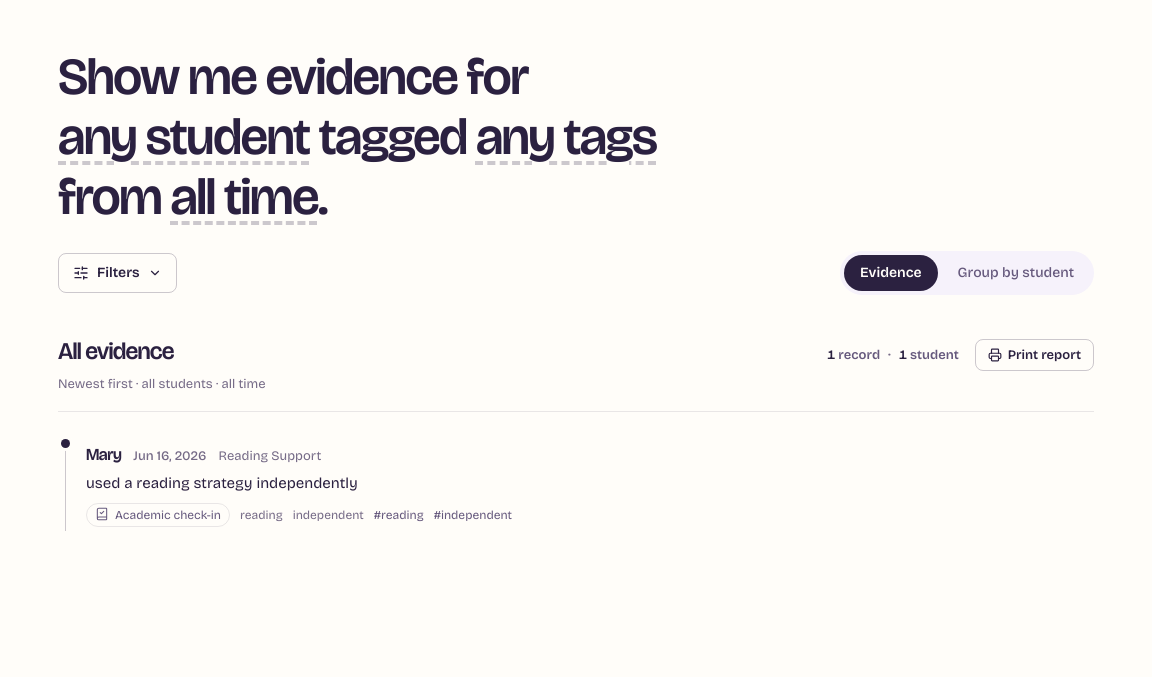
ExploreEvidencePage › does not ask how tags match until two tags are selected
Click the button "Filters": (117, 273) [58,253,177,293]
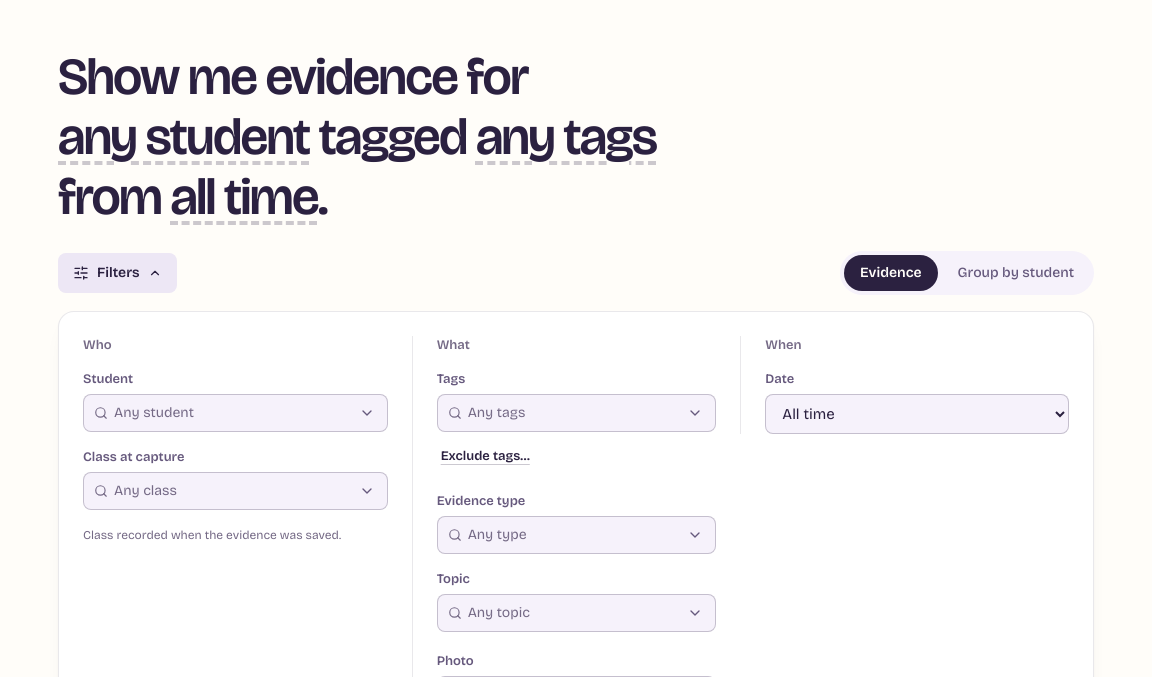
In the dropdown labelled "Tags": (570, 413) [468,397,671,429], type "read"
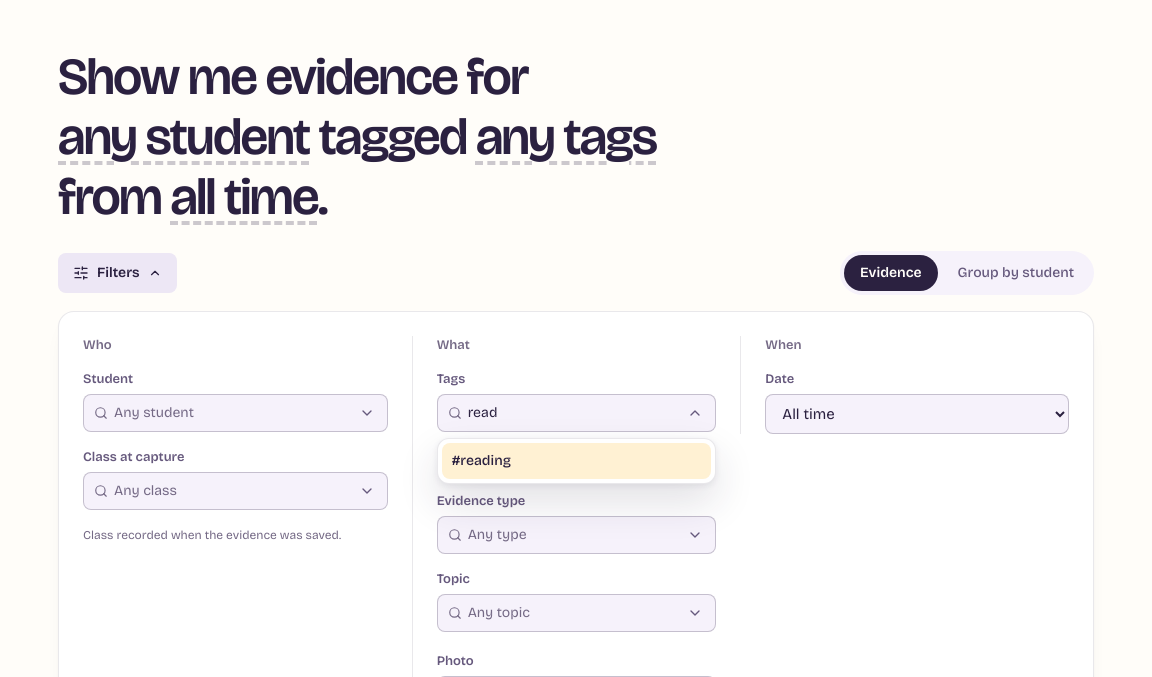
Press Enter in the dropdown labelled "Tags", box [468,397,671,429]
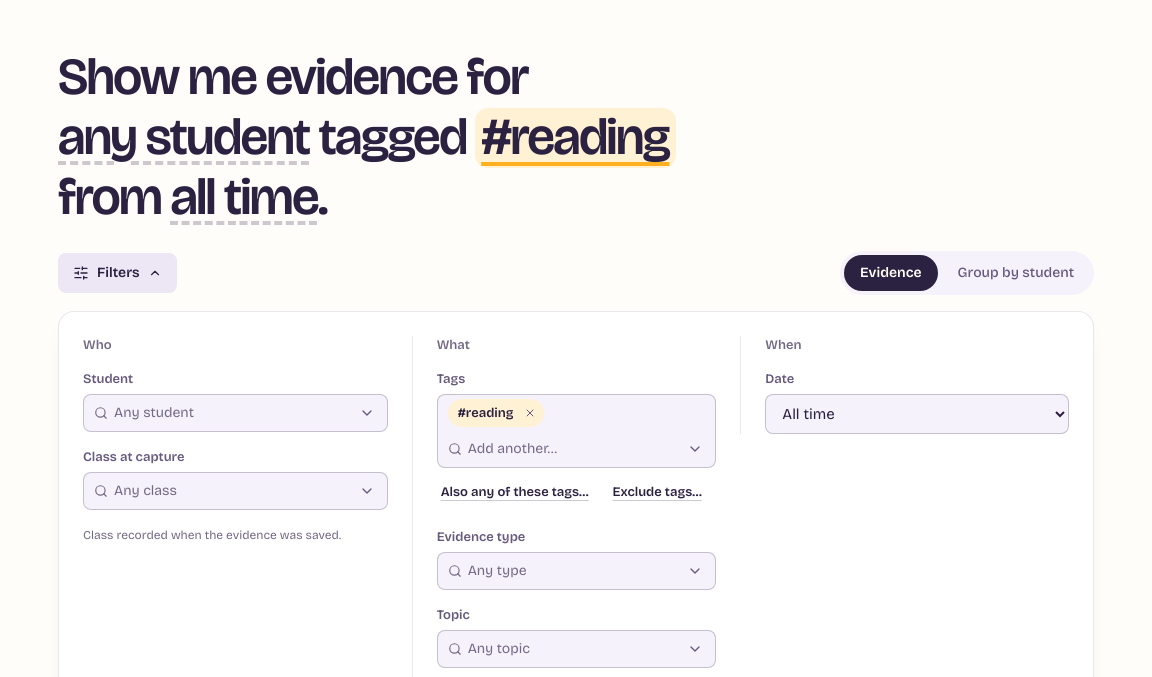
expect the button "Also any of these tags…" is shown: met, box [437,476,593,508]
